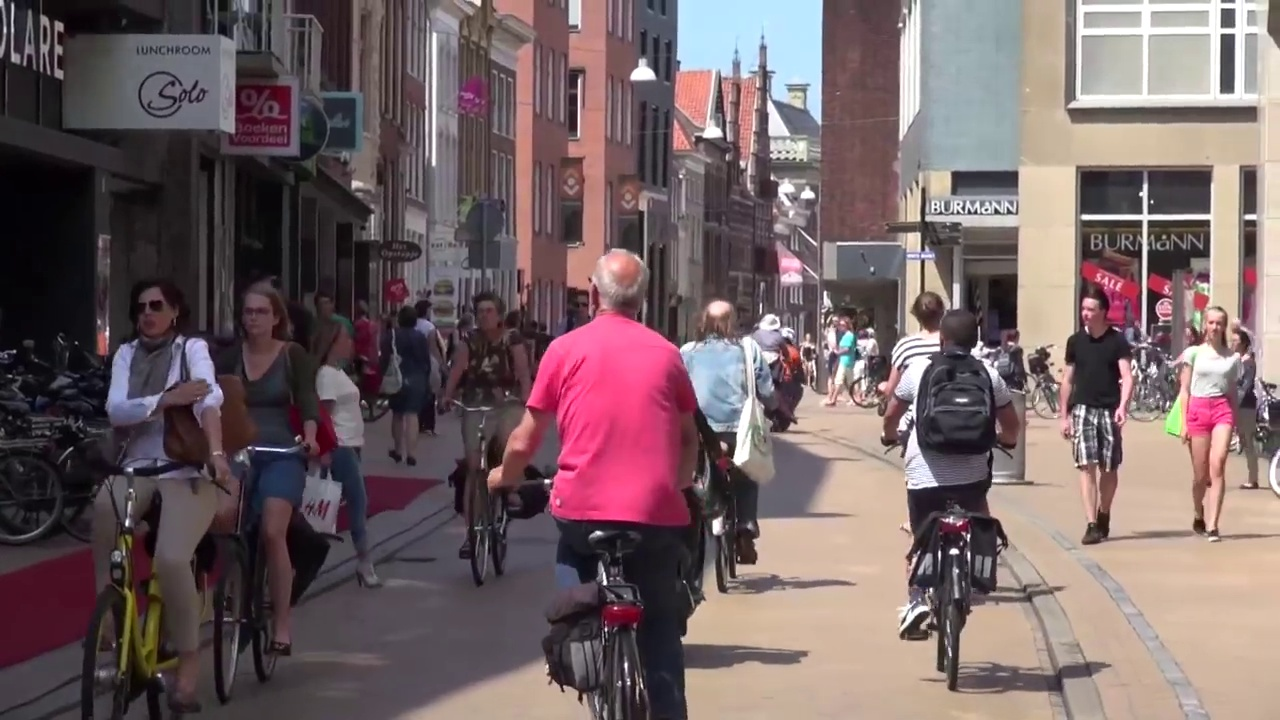cyclist_back: (510, 245, 709, 711), (900, 307, 1009, 695), (682, 290, 774, 595)
cyclist_front: (87, 292, 226, 710), (213, 273, 324, 701), (443, 294, 528, 590)
